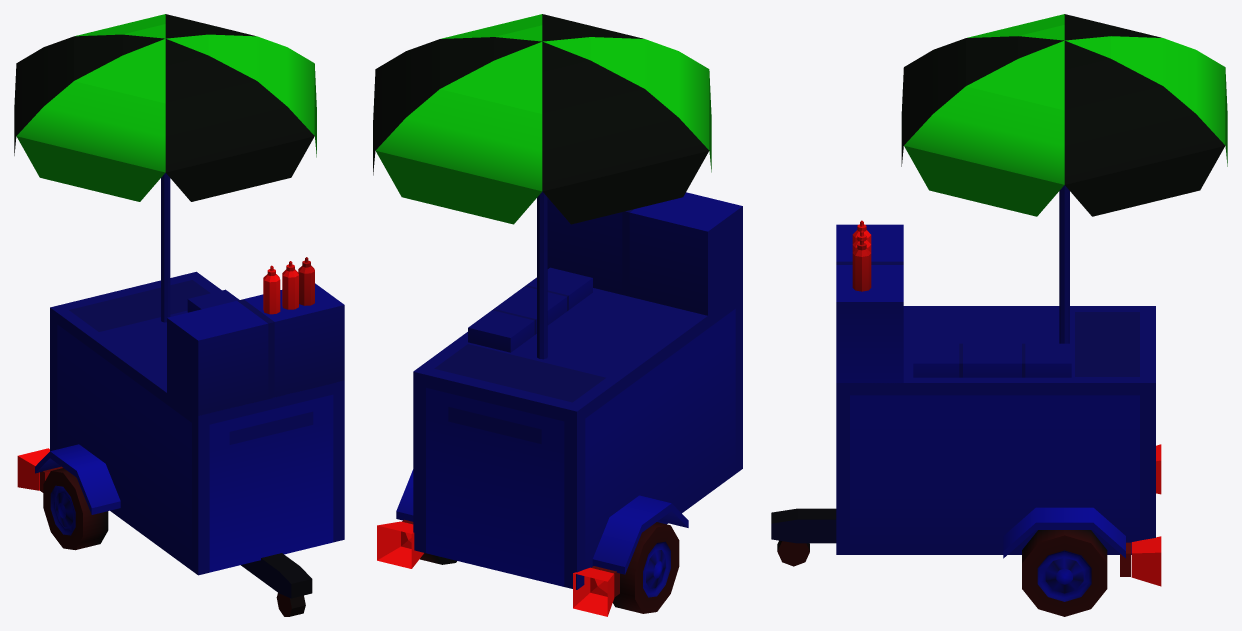
The model's file is HotDogCart.glb.
3 renders of one model, left to right at view 1: azimuth 30°, elevation 25°; view 2: azimuth 150°, elevation 25°; view 3: azimuth 270°, elevation 25°, orthographic. The views are drawn at different scales.
Parts seen in each view (by area): view 1: HotDogCart; view 2: HotDogCart; view 3: HotDogCart.
Part boxes in pixels (left/top/right/bottom): HotDogCart: left=14, top=14, right=344, bottom=616; HotDogCart: left=373, top=14, right=742, bottom=616; HotDogCart: left=771, top=14, right=1227, bottom=616.
Bounding box in the file's own units: 9.43 × 14.65 × 11.6.
